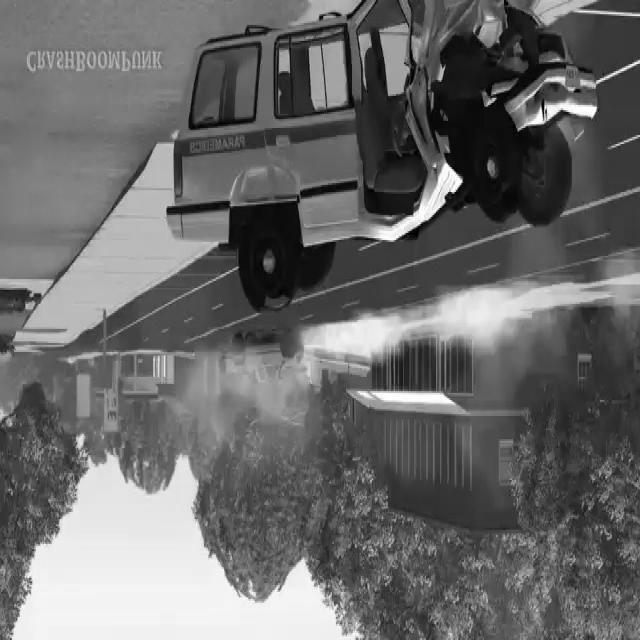severe: (161, 0, 604, 315)
